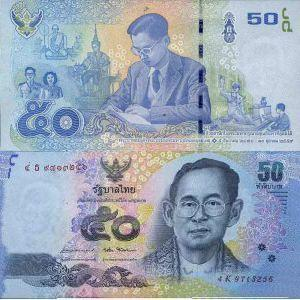50BahtTai: (0, 151, 300, 300)
